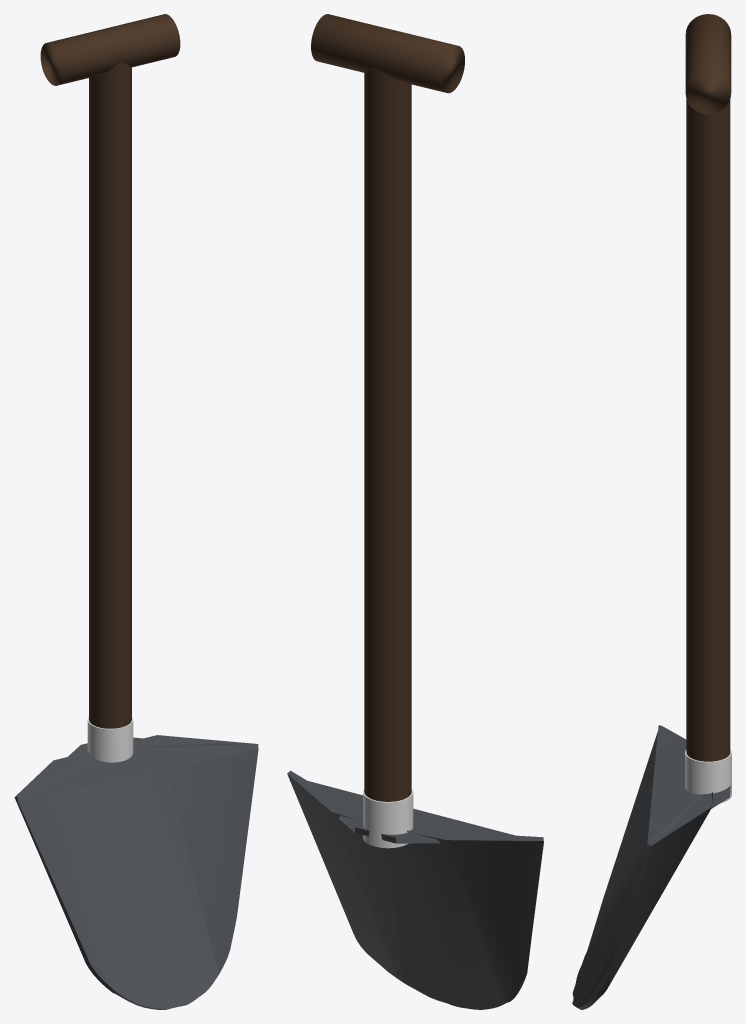
File: shovel.fbx
3 views of the same model, side by side, from view 1: azimuth 30°, elevation 25°; view 2: azimuth 150°, elevation 25°; view 3: azimuth 270°, elevation 25° (orthographic). The views are drawn at different scales.
Parts seen in each view (by area): view 1: Uçak, Silindir, Silindir.001, Silindir.002; view 2: Silindir, Uçak, Silindir.001, Silindir.002; view 3: Silindir, Uçak, Silindir.001, Silindir.002.
Part boxes in pixels (x1=…): Uçak: x1=14, y1=735, x2=258, y2=1009; Silindir: x1=89, y1=62, x2=131, y2=728; Silindir.001: x1=40, y1=14, x2=180, y2=85; Silindir.002: x1=87, y1=717, x2=133, y2=762; Silindir: x1=364, y1=67, x2=411, y2=801; Uçak: x1=287, y1=770, x2=543, y2=1009; Silindir.001: x1=311, y1=14, x2=464, y2=93; Silindir.002: x1=363, y1=789, x2=413, y2=848; Silindir: x1=686, y1=99, x2=730, y2=761; Uçak: x1=572, y1=725, x2=730, y2=1009; Silindir.001: x1=685, y1=14, x2=731, y2=114; Silindir.002: x1=685, y1=749, x2=731, y2=803.
Bounding box in the file's own units: 87.51 × 327 × 49.51.
